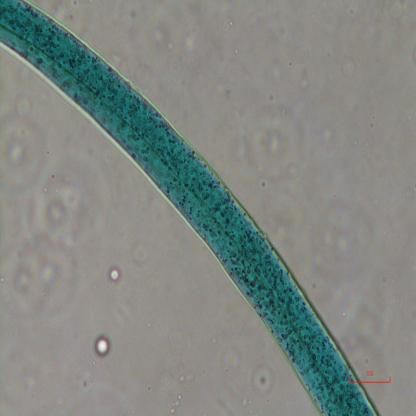Background material: (0, 114, 114, 249), (313, 192, 378, 280), (243, 99, 304, 183), (336, 292, 395, 372), (18, 252, 80, 316), (172, 20, 206, 57), (141, 18, 169, 55), (250, 363, 276, 397), (91, 334, 112, 361), (176, 356, 191, 386), (106, 266, 123, 286), (168, 390, 183, 412)
Microfibre: (0, 0, 379, 416)
